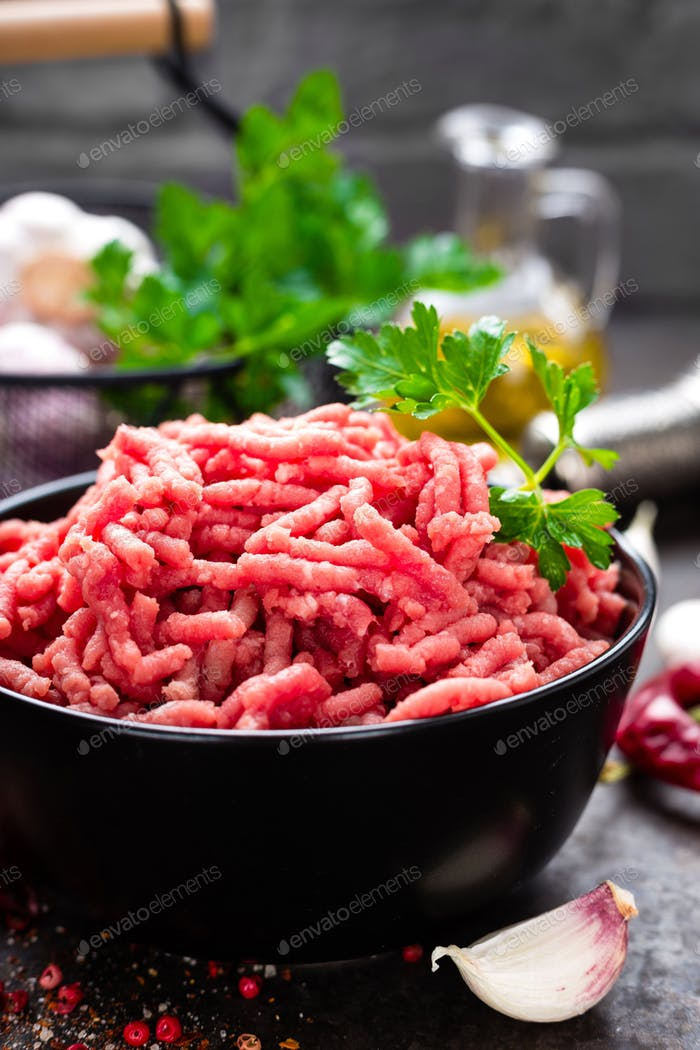ground_beef: (35, 441, 574, 711)
